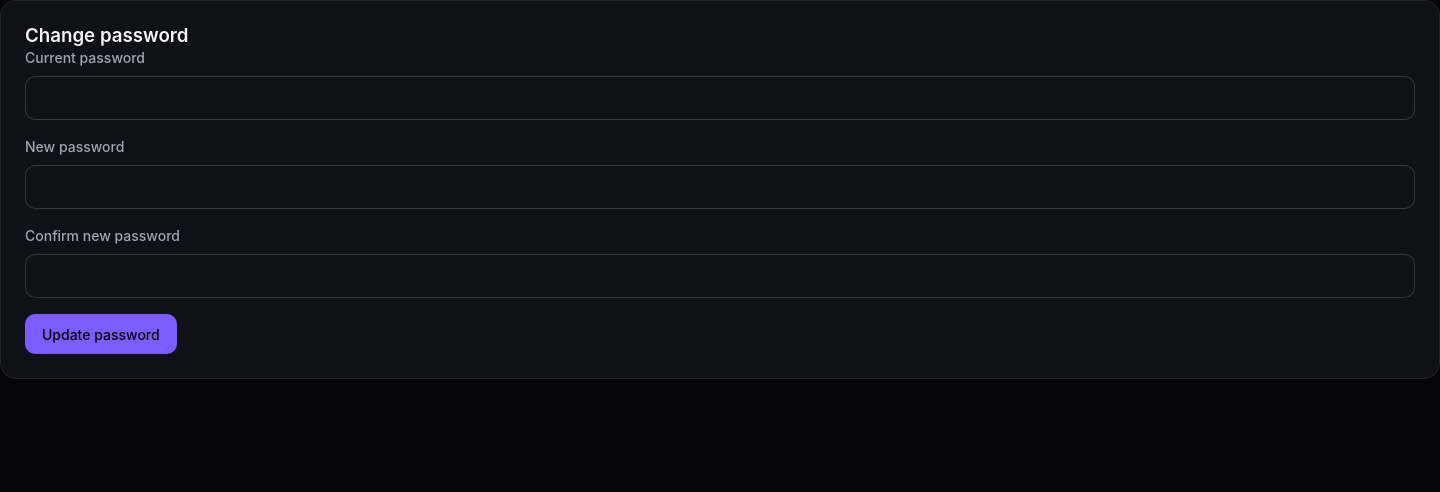
SecuritySection › shows CURRENT_PASSWORD_INCORRECT as a recoverable API error
Type "WrongPassw0rd!" into the password field labelled "Current password" at (720, 98), box x1=25 y1=76 x2=1415 y2=120
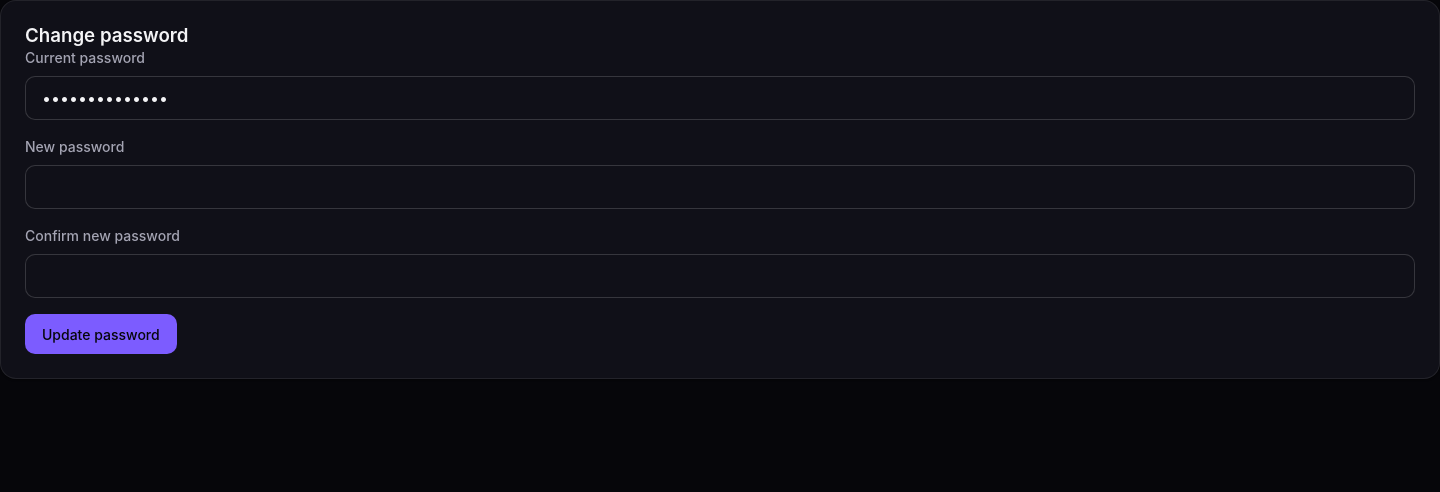
Type "N3wSup3r$ecretPassw0rd!" into the password field labelled "New password" at (720, 188), box x1=25 y1=166 x2=1415 y2=210
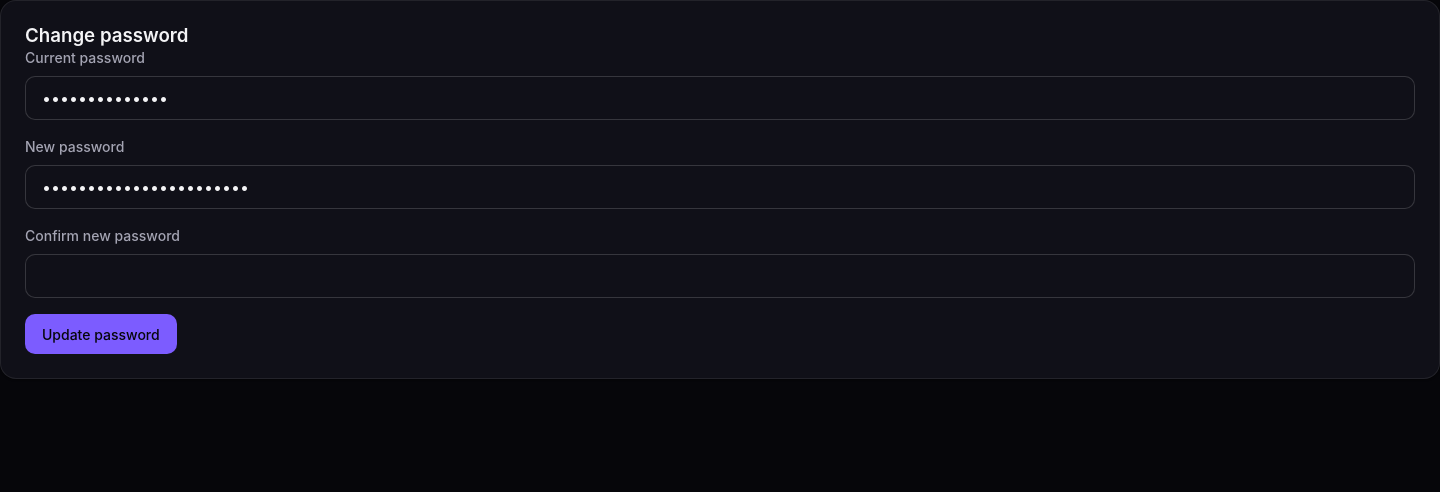
Type "N3wSup3r$ecretPassw0rd!" into the password field labelled "Confirm new password" at (720, 276), box x1=25 y1=254 x2=1415 y2=298
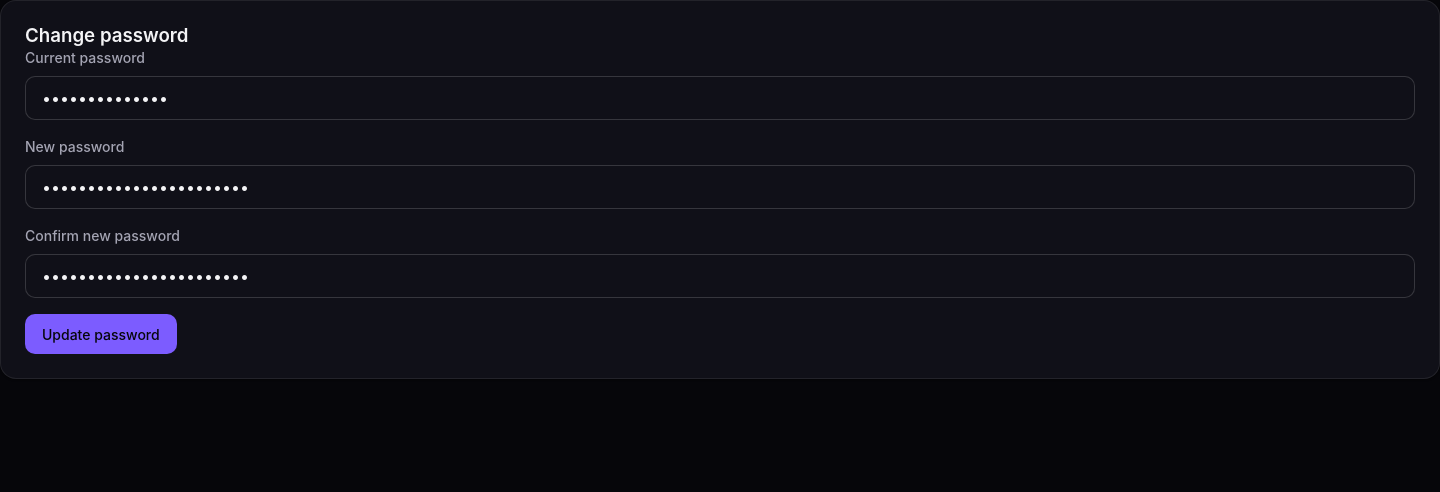
Click the button "Update password" at (101, 334), box x1=25 y1=314 x2=177 y2=354
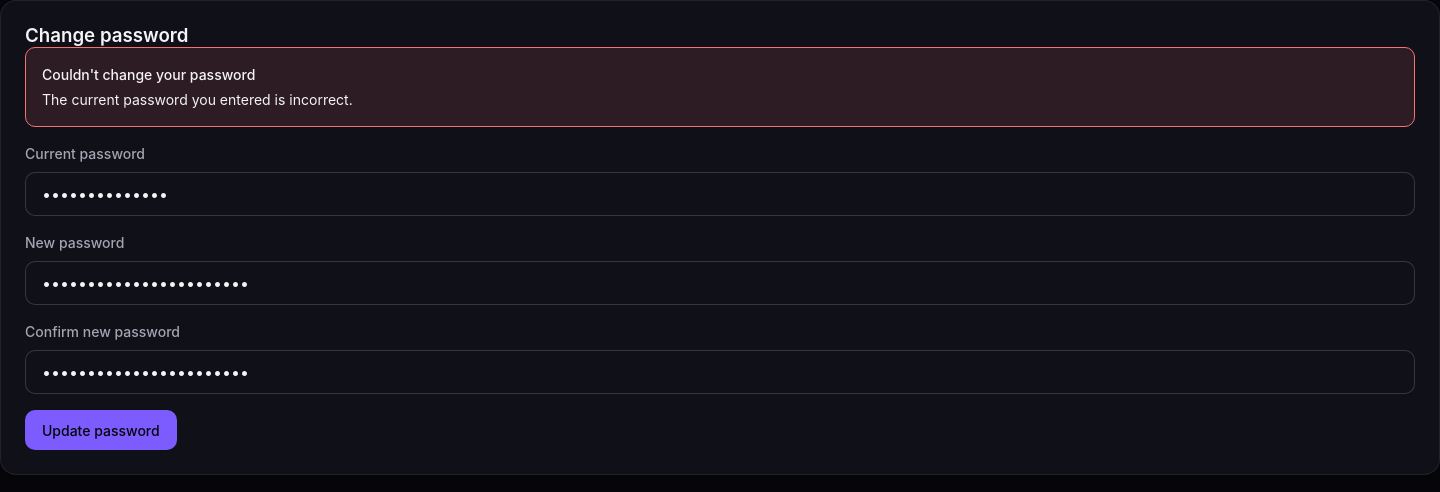
expect the text "The current password you entered is incorrect." is shown: met, box x1=42 y1=92 x2=353 y2=108
